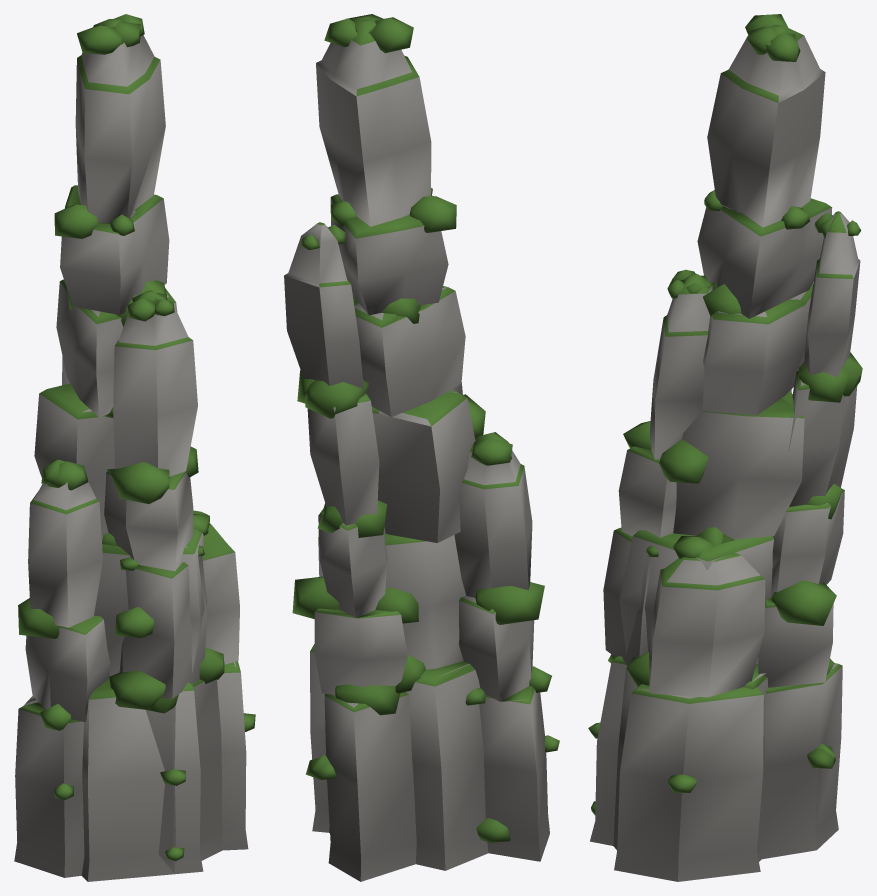
Rendered from karst_hero_c_lod1.glb.
3 renders of one model, left to right at view 1: azimuth 30°, elevation 25°; view 2: azimuth 150°, elevation 25°; view 3: azimuth 270°, elevation 25°, orthographic. The views are drawn at different scales.
Parts seen in each view (by area): view 1: karst_hero_c_lod1; view 2: karst_hero_c_lod1; view 3: karst_hero_c_lod1.
Boxes of the visible parts, x1,y1,x2,y2 form: karst_hero_c_lod1: (14,14,255,881); karst_hero_c_lod1: (284,14,559,881); karst_hero_c_lod1: (588,14,862,881).
Size of the model in its own units: 74.85 by 247 by 75.11.
